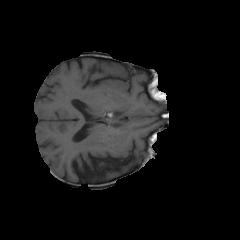glioma: (103, 64, 164, 106)
